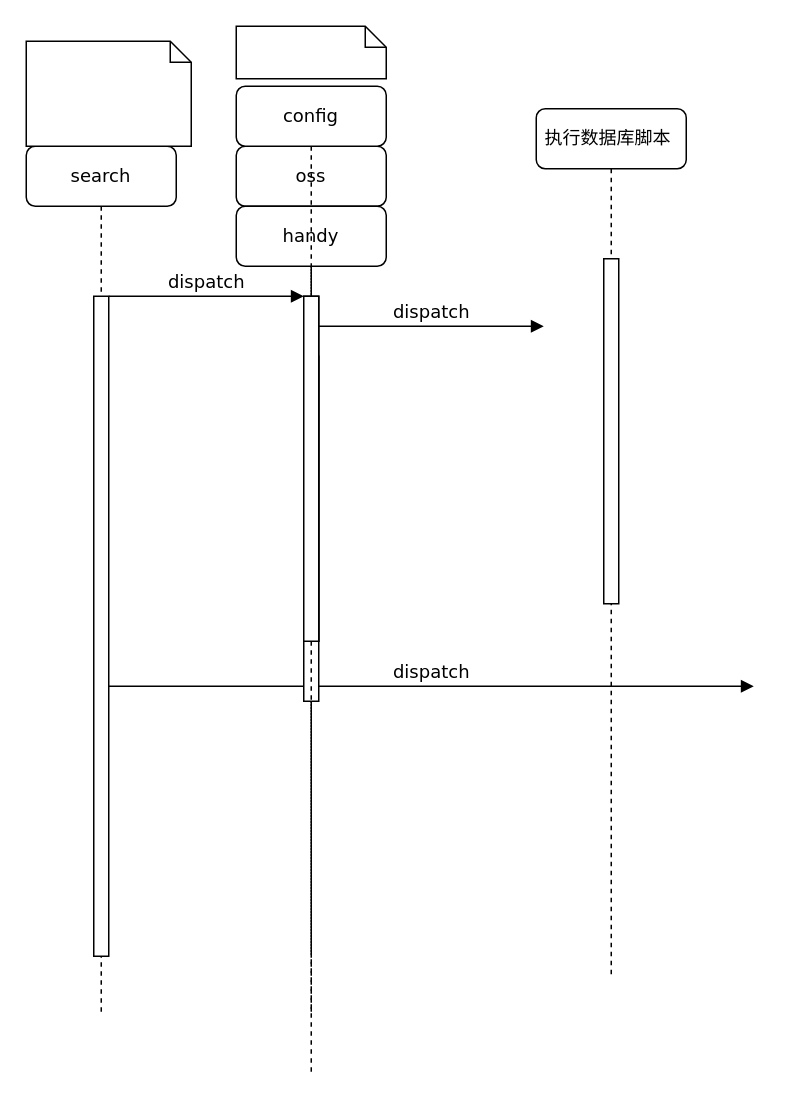
Image size: 792x1103. Some labels were removed from this diagram. Here are the shapes that lost their labels. From the top down, the centre of each, then its label:
[310,52]: Note:可以一起上线
[108,93]: 部署之后可以在handy和oss验证，不影响上一版本逻辑
